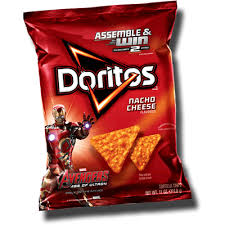Doritos: (36, 24, 215, 213)
